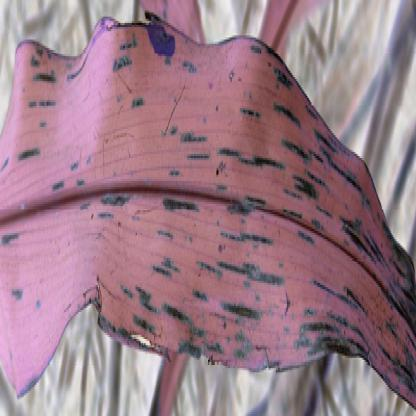corn leaf blight: (1, 19, 415, 399)
